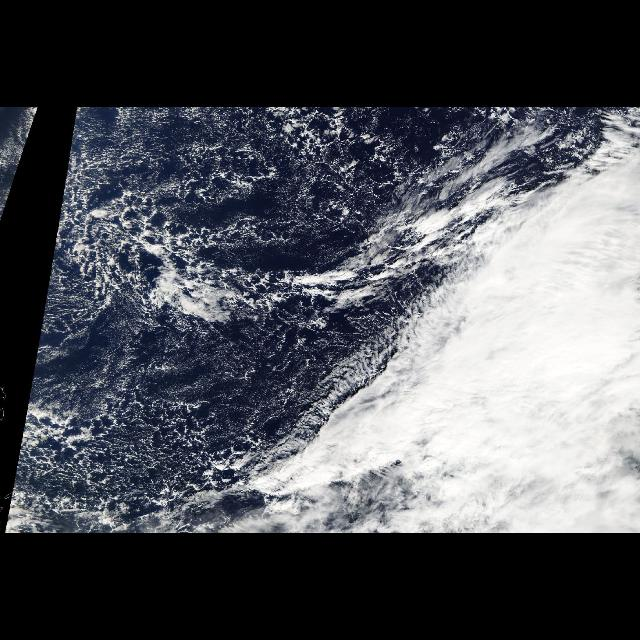Gravel: (14, 108, 592, 532), (22, 108, 38, 158)
